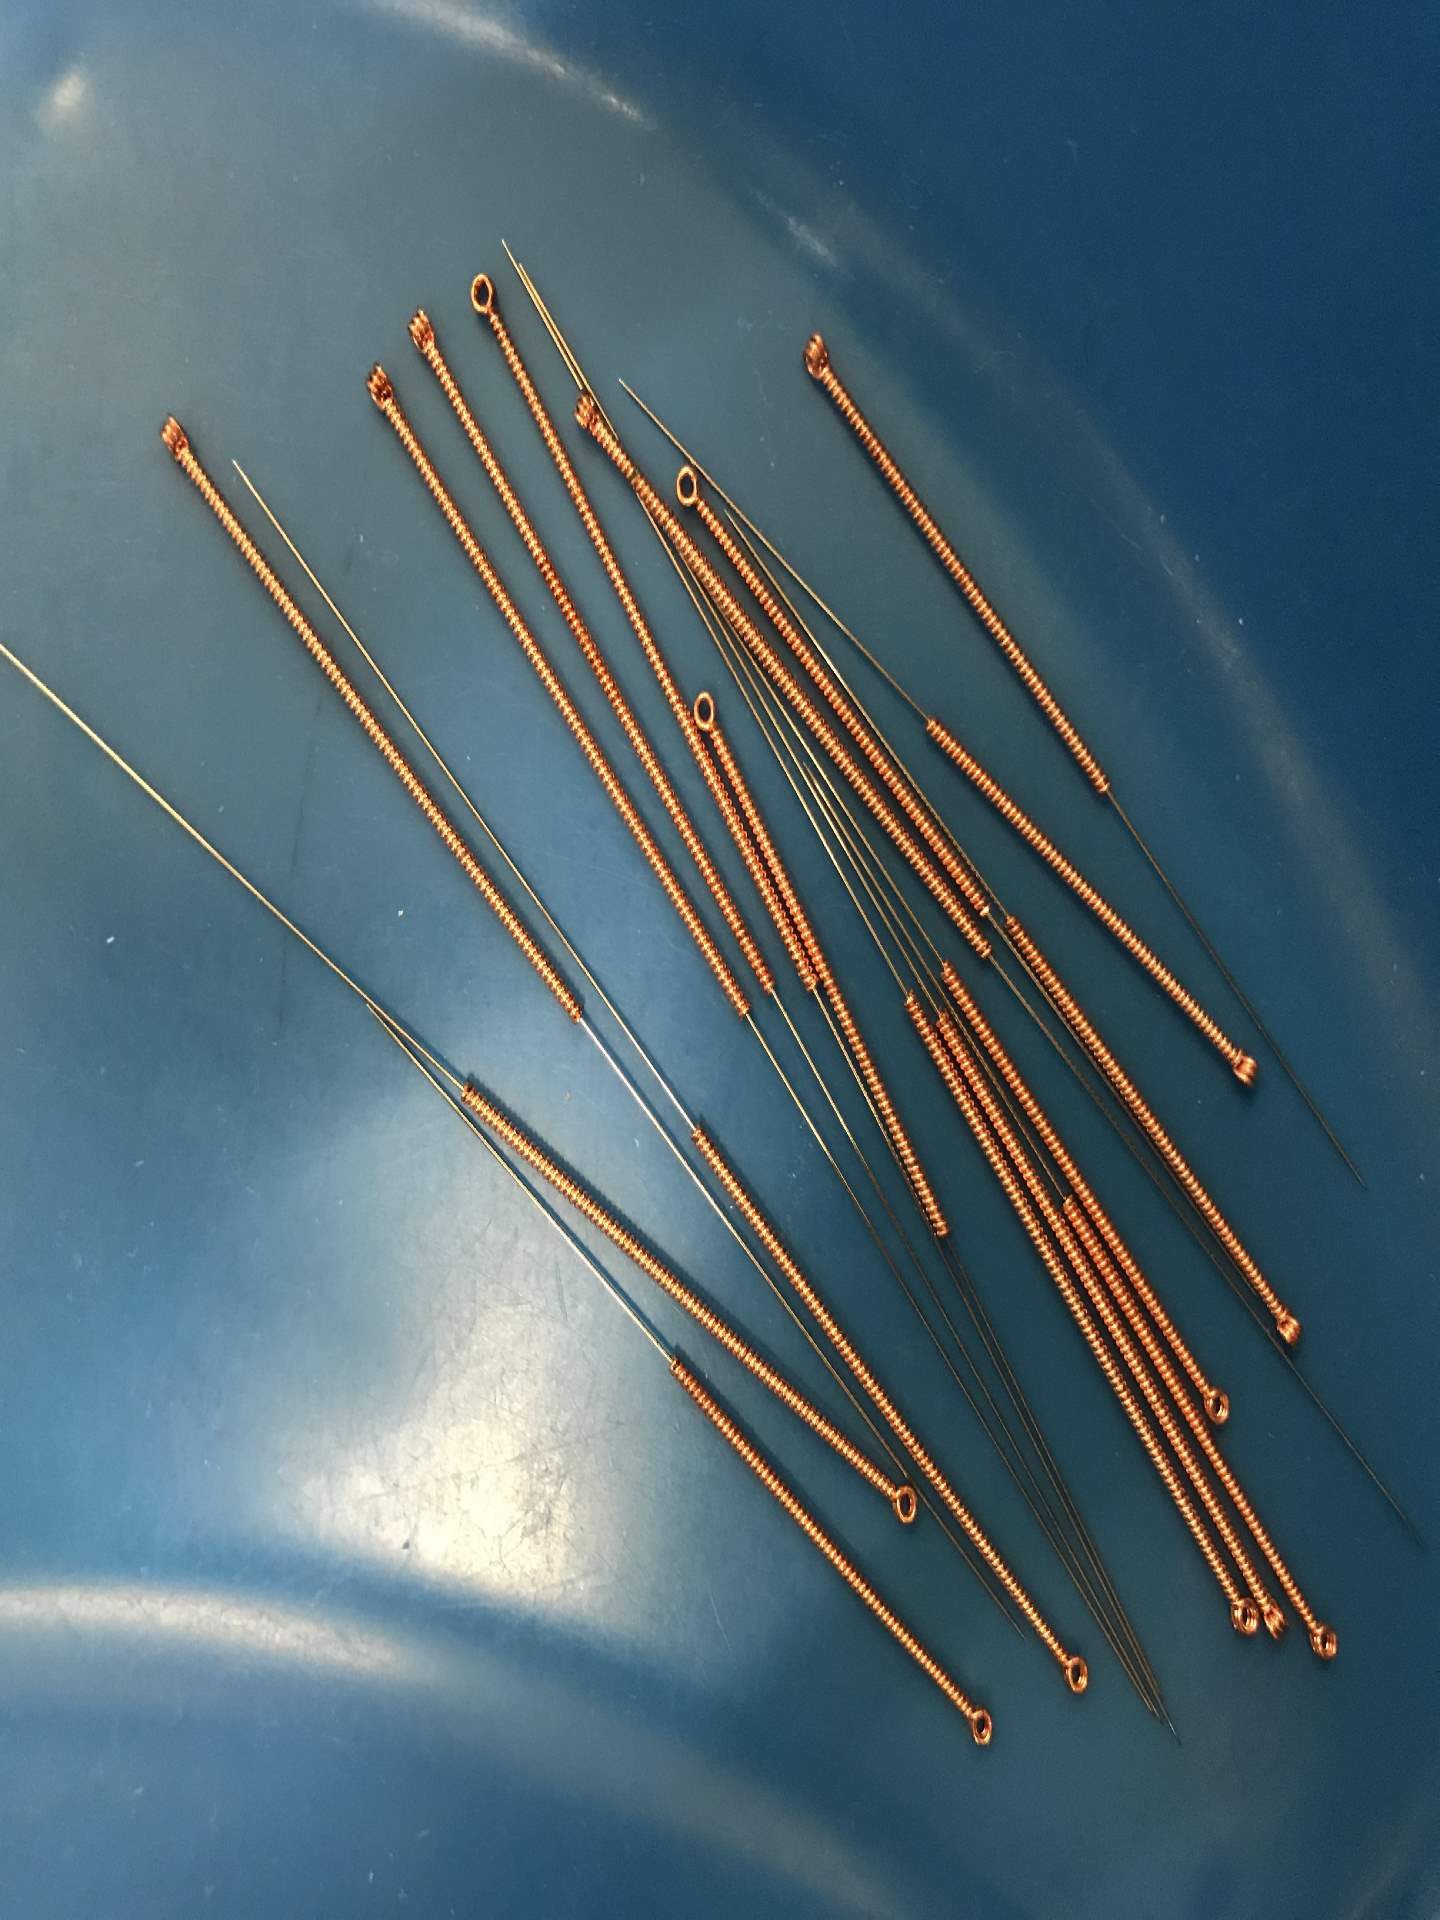needle: (1207, 1023, 1272, 1104), (455, 255, 517, 337), (139, 398, 201, 478), (787, 317, 844, 402), (349, 348, 407, 429), (1255, 1274, 1311, 1356), (1044, 1639, 1106, 1711), (951, 1689, 1010, 1761), (393, 295, 451, 367), (563, 378, 619, 452), (874, 1468, 929, 1541), (1296, 1606, 1352, 1674), (1216, 1581, 1263, 1651), (669, 454, 712, 528), (1193, 1370, 1237, 1432), (1254, 1584, 1290, 1649), (690, 683, 725, 745)
